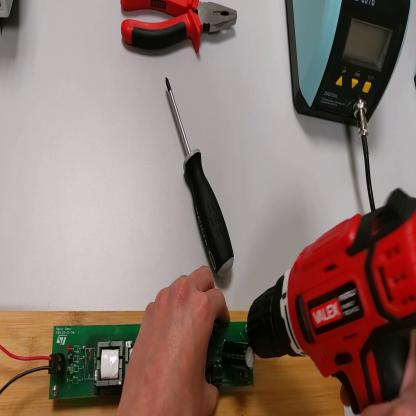electric screwdriver: (249, 188, 416, 412)
hand: (122, 264, 231, 410), (342, 333, 415, 414)
high voltage board: (2, 323, 256, 402)
oscilloscope: (2, 3, 14, 20)
pliers: (120, 2, 239, 47)
welder station: (286, 3, 413, 125)
working area: (2, 311, 346, 415)
